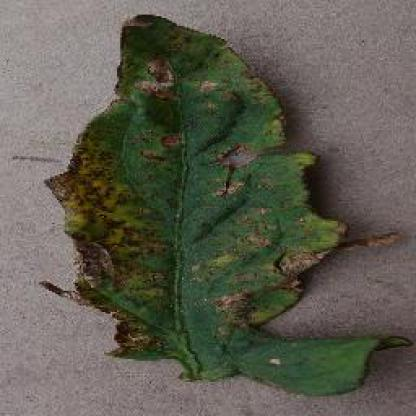bad leaf: (51, 9, 307, 335)
